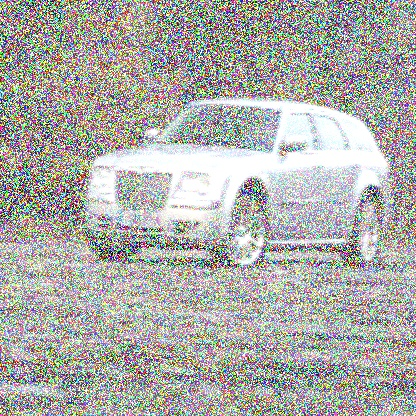Vehicle: (83, 95, 392, 270)
